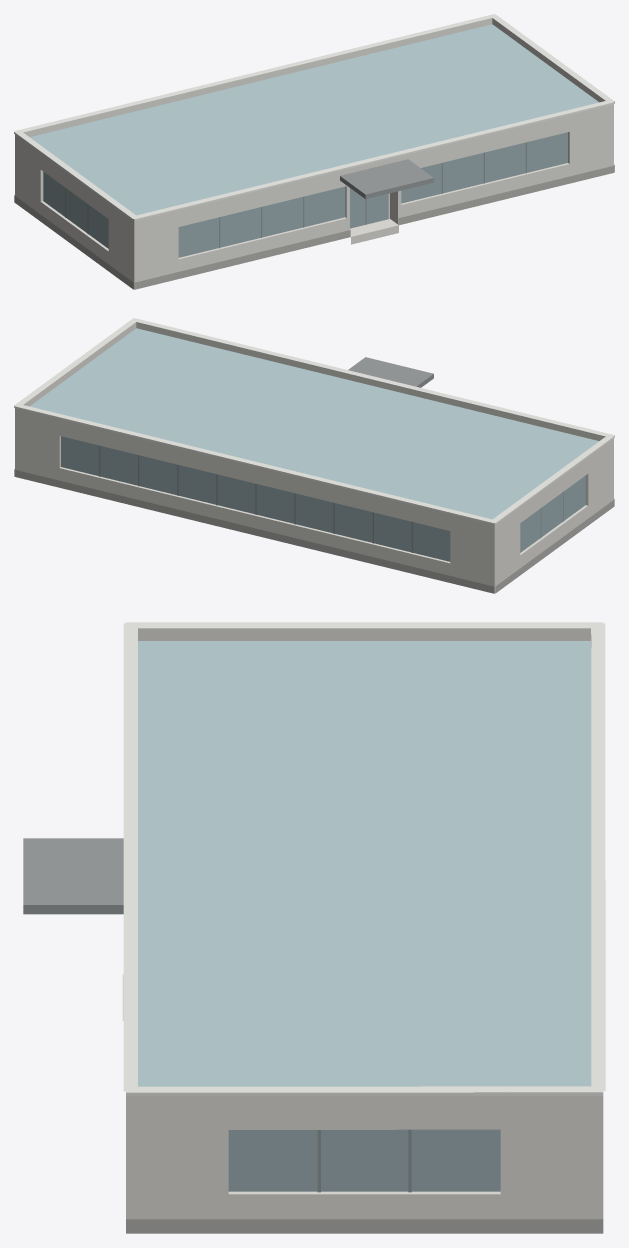
3 renders of one model, top to bottom at view 1: azimuth 30°, elevation 25°; view 2: azimuth 150°, elevation 25°; view 3: azimuth 270°, elevation 25°, orthographic. The views are drawn at different scales.
Parts seen in each view (by area): view 1: b1557353110__roof, b1557353110__wall, b1557353110__glass, b1557353110__parapet, b1557353110__trim, b1557353110__base, b1557353110__canopy, b1557353110__entranceThreshold_0, b1557353110__frame; view 2: b1557353110__roof, b1557353110__wall, b1557353110__glass, b1557353110__parapet, b1557353110__trim, b1557353110__base, b1557353110__canopy, b1557353110__frame; view 3: b1557353110__roof, b1557353110__wall, b1557353110__trim, b1557353110__glass, b1557353110__parapet, b1557353110__canopy, b1557353110__base.
Part boxes in pixels (x1,y1,x2,y2): b1557353110__roof: [30, 24, 598, 289]; b1557353110__wall: [15, 108, 613, 289]; b1557353110__glass: [43, 132, 567, 257]; b1557353110__parapet: [15, 18, 613, 224]; b1557353110__trim: [14, 14, 614, 220]; b1557353110__base: [14, 165, 614, 289]; b1557353110__canopy: [340, 159, 433, 199]; b1557353110__entranceThreshold_0: [350, 219, 398, 244]; b1557353110__frame: [65, 142, 526, 248]; b1557353110__roof: [30, 328, 598, 593]; b1557353110__wall: [15, 412, 613, 593]; b1557353110__glass: [61, 436, 585, 561]; b1557353110__parapet: [15, 322, 613, 528]; b1557353110__trim: [14, 318, 614, 524]; b1557353110__base: [14, 469, 614, 593]; b1557353110__canopy: [348, 357, 433, 387]; b1557353110__frame: [99, 445, 563, 552]; b1557353110__roof: [138, 641, 591, 1086]; b1557353110__wall: [126, 1104, 603, 1219]; b1557353110__trim: [123, 622, 605, 1095]; b1557353110__glass: [228, 1129, 500, 1191]; b1557353110__parapet: [126, 628, 603, 1103]; b1557353110__canopy: [23, 838, 123, 914]; b1557353110__base: [126, 1219, 603, 1233].
Size of the model in its own units: 28.17 by 4.35 by 14.74.
